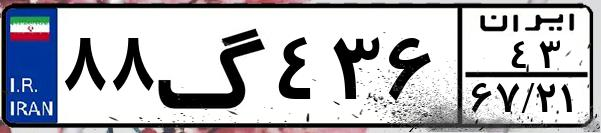1: (560, 70, 590, 125)
2: (535, 70, 560, 125)
3: (330, 28, 385, 110), (537, 27, 568, 80)
4: (270, 28, 330, 110), (508, 27, 537, 80)
6: (385, 28, 445, 110), (470, 70, 495, 125)
7: (495, 70, 520, 125)
8: (57, 26, 110, 100), (110, 28, 156, 98)
گ: (156, 12, 270, 120)
